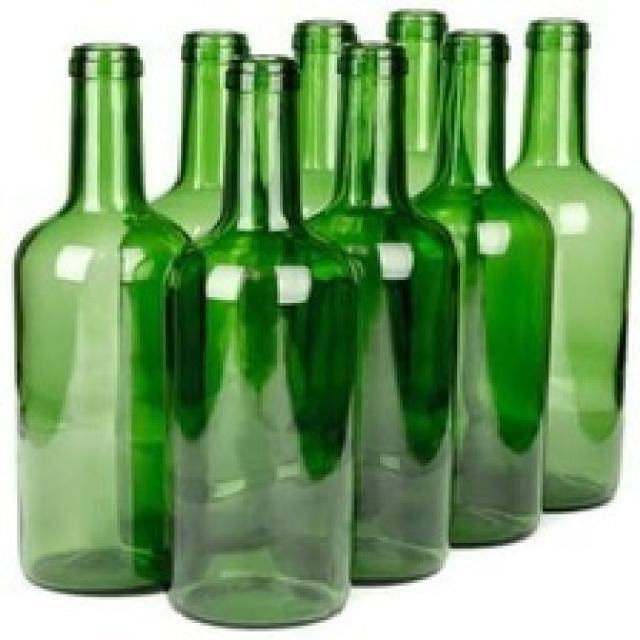Glass: (14, 44, 206, 600), (170, 54, 354, 634), (306, 42, 464, 588), (408, 29, 554, 552), (503, 19, 634, 516)
